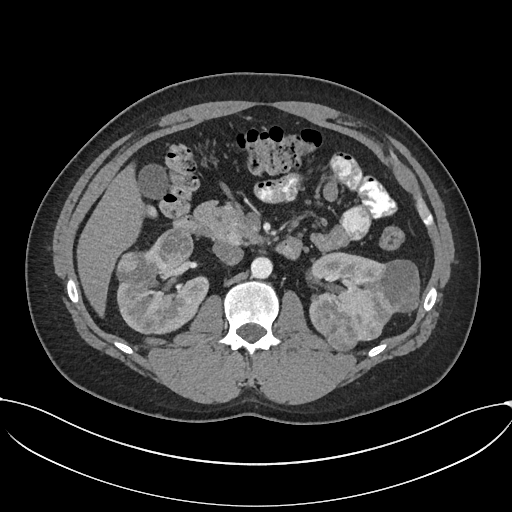Lesion: (379, 255, 421, 316), (115, 251, 158, 294)
